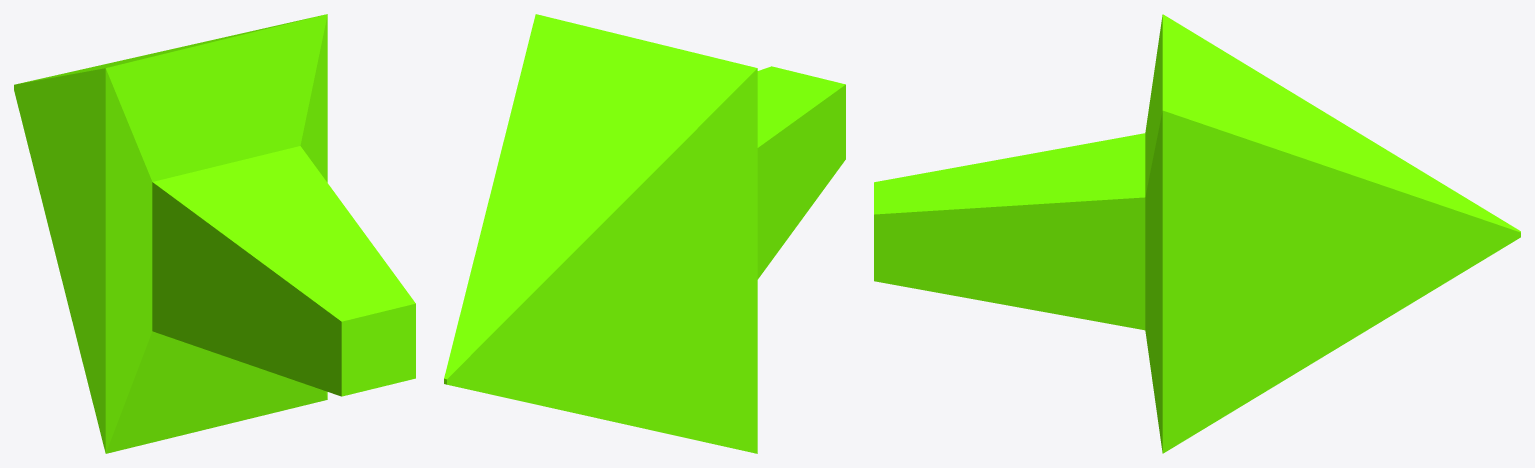
File: Arrow.fbx
The picture shows the model from 3 angles, left to right: view 1: azimuth 30°, elevation 25°; view 2: azimuth 150°, elevation 25°; view 3: azimuth 270°, elevation 25°; orthographic projection. The views are drawn at different scales.
Parts seen in each view (by area): view 1: Arrow; view 2: Arrow; view 3: Arrow.
Part boxes in pixels (x1,y1,x2,y2): Arrow: (14, 14, 415, 453); Arrow: (444, 14, 845, 453); Arrow: (874, 14, 1520, 453).
Bounding box in the file's own units: 20 × 33.21 × 56.69.
